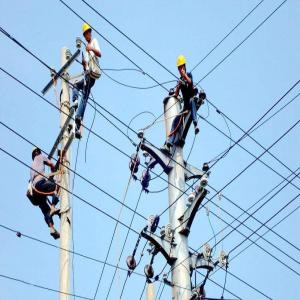yellow: (82, 19, 93, 44), (178, 55, 188, 80), (33, 144, 43, 163)
